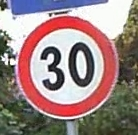limite 30: (15, 14, 119, 119)
